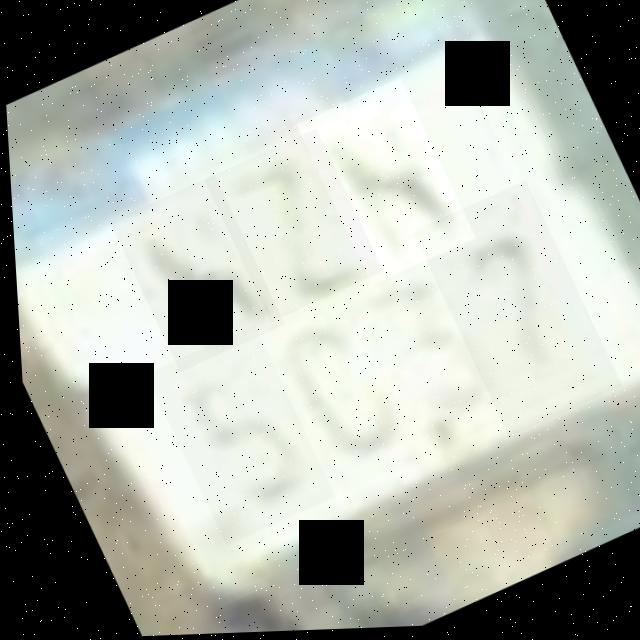5: (139, 324, 331, 548)
7: (407, 182, 619, 442)
N: (292, 78, 475, 289), (104, 174, 283, 375)
Z: (199, 129, 381, 325)
